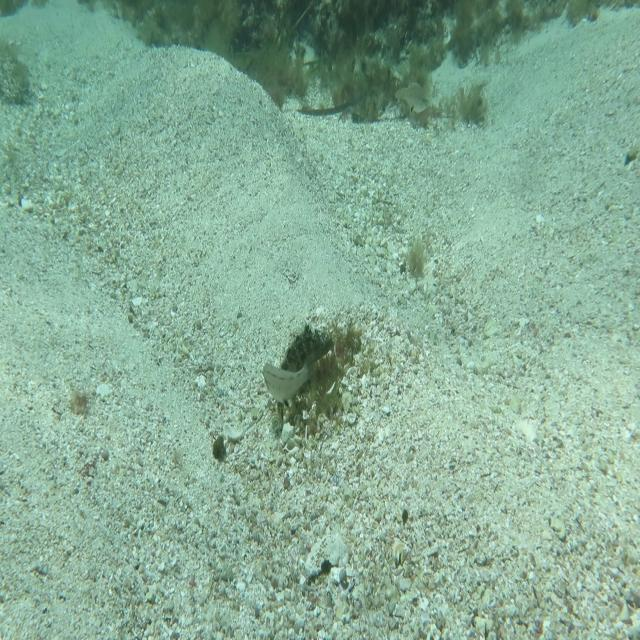DAN_CIRC: (273, 319, 337, 436)
female: (262, 351, 320, 407)
nest: (276, 315, 365, 433)
vegetation: (104, 0, 542, 45), (216, 46, 425, 94), (400, 239, 426, 284), (210, 434, 231, 466)
